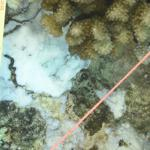alive: (4, 3, 146, 146)
